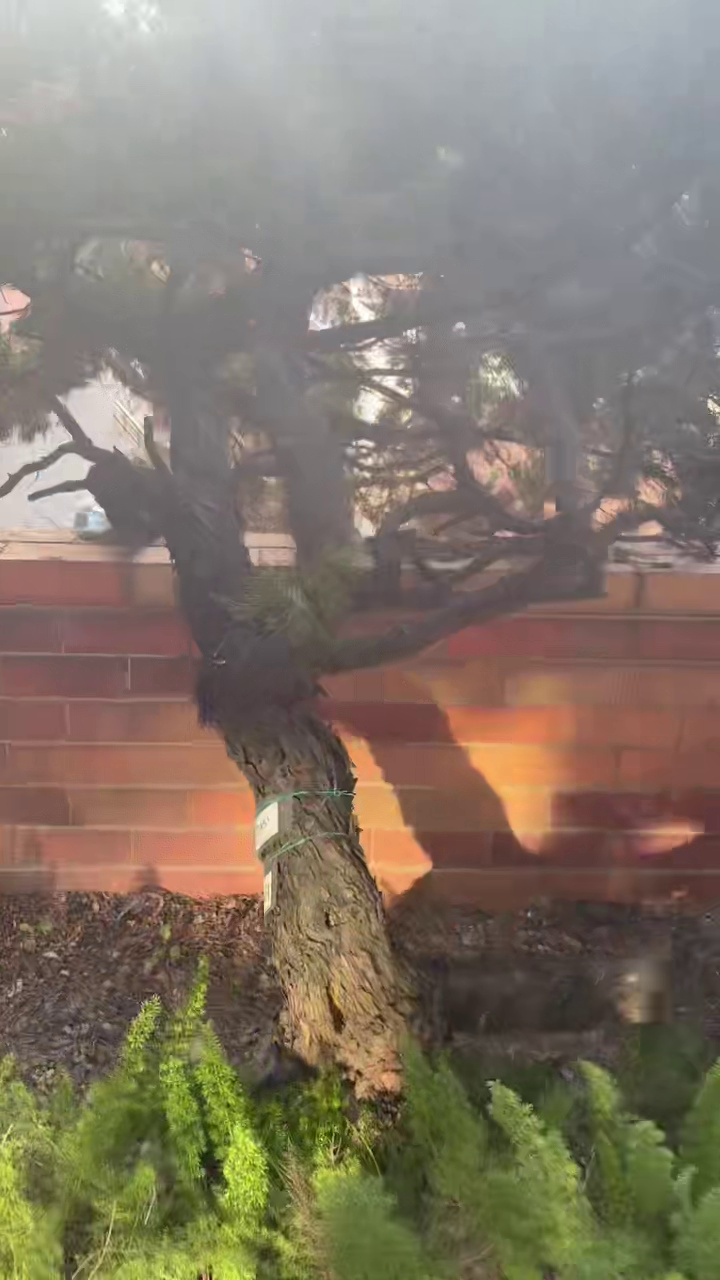Juniperus chinensis: (0, 0, 719, 1092)
